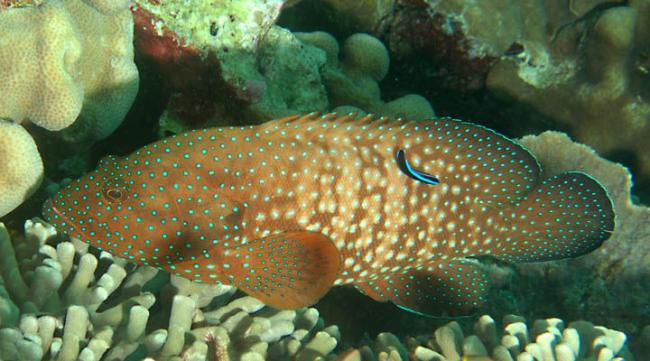fish: (39, 111, 618, 318)
